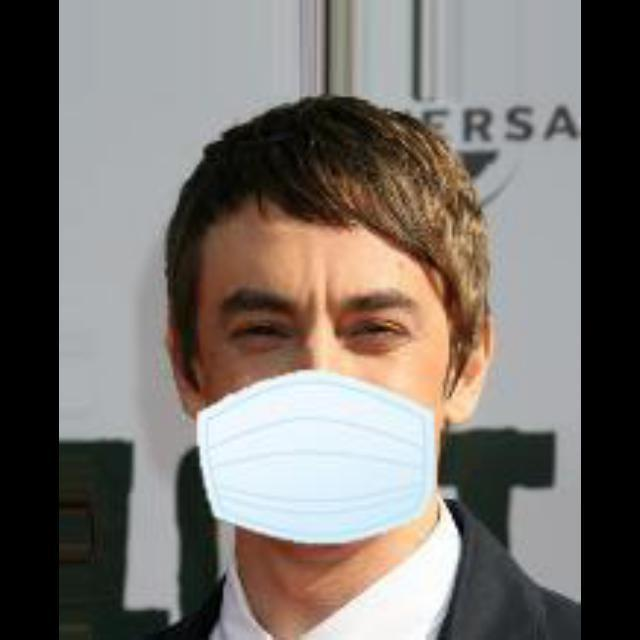suspicion: (175, 180, 465, 548)
